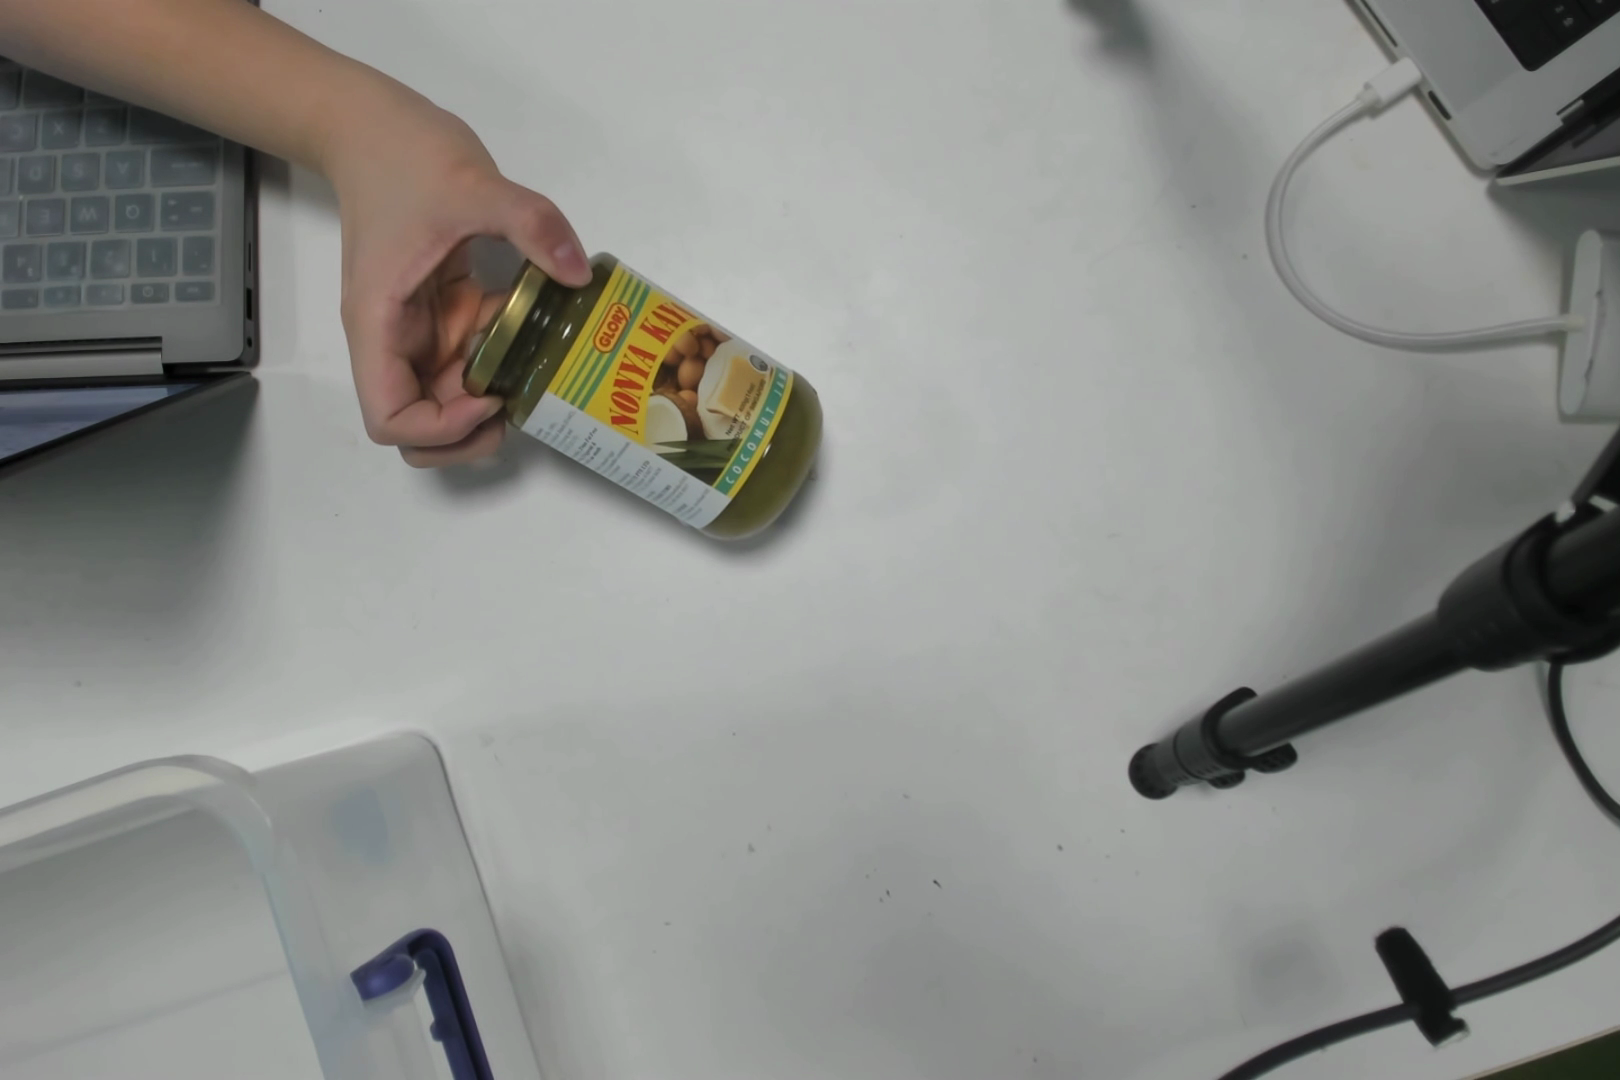Kaya_400-499g_Halal_NonHealthy: (522, 278, 859, 538)
